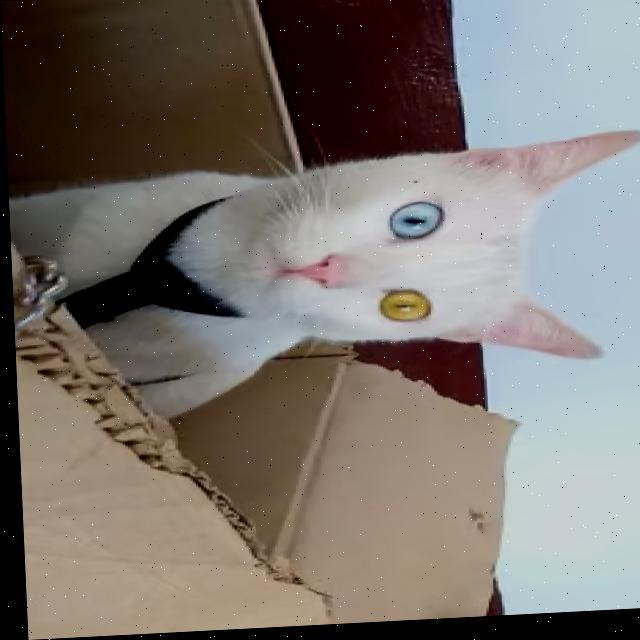Khao Manee: (6, 132, 640, 426)
